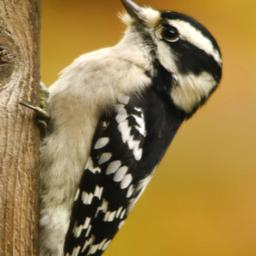Woodpecker: (23, 0, 225, 256)
